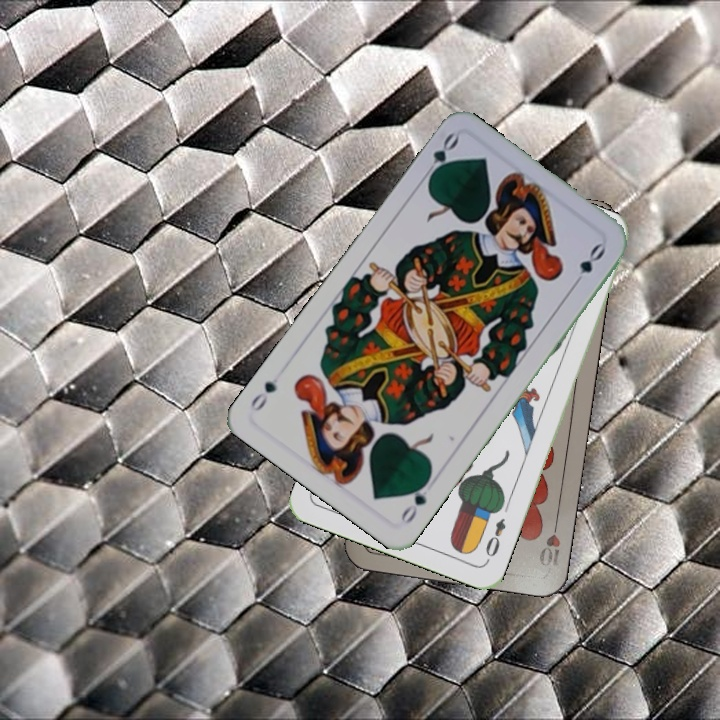EO: (481, 514, 509, 565)
GO: (418, 129, 462, 185), (396, 473, 433, 527)
H10: (534, 513, 563, 569)
